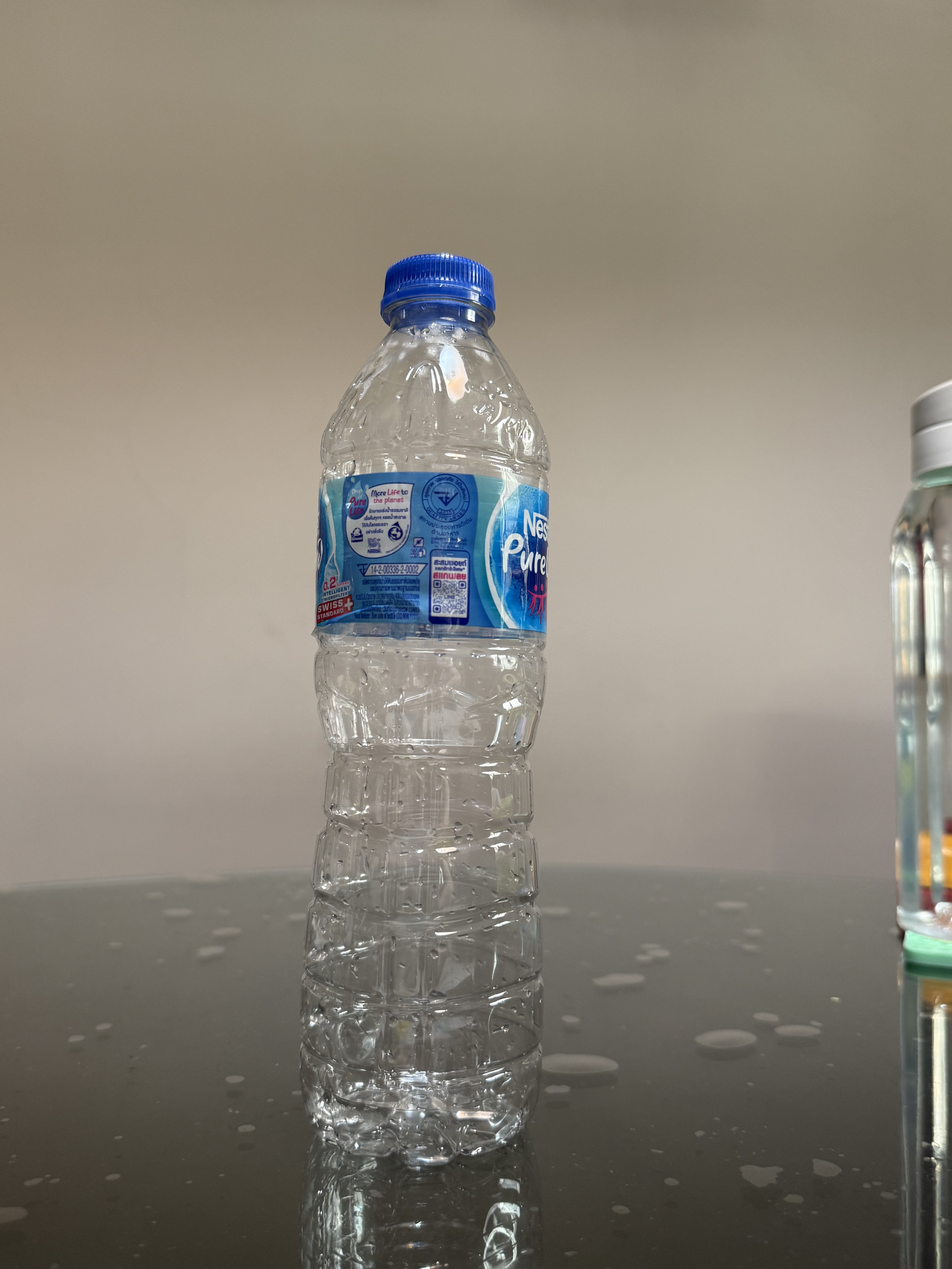closed_cap: (378, 250, 497, 327)
